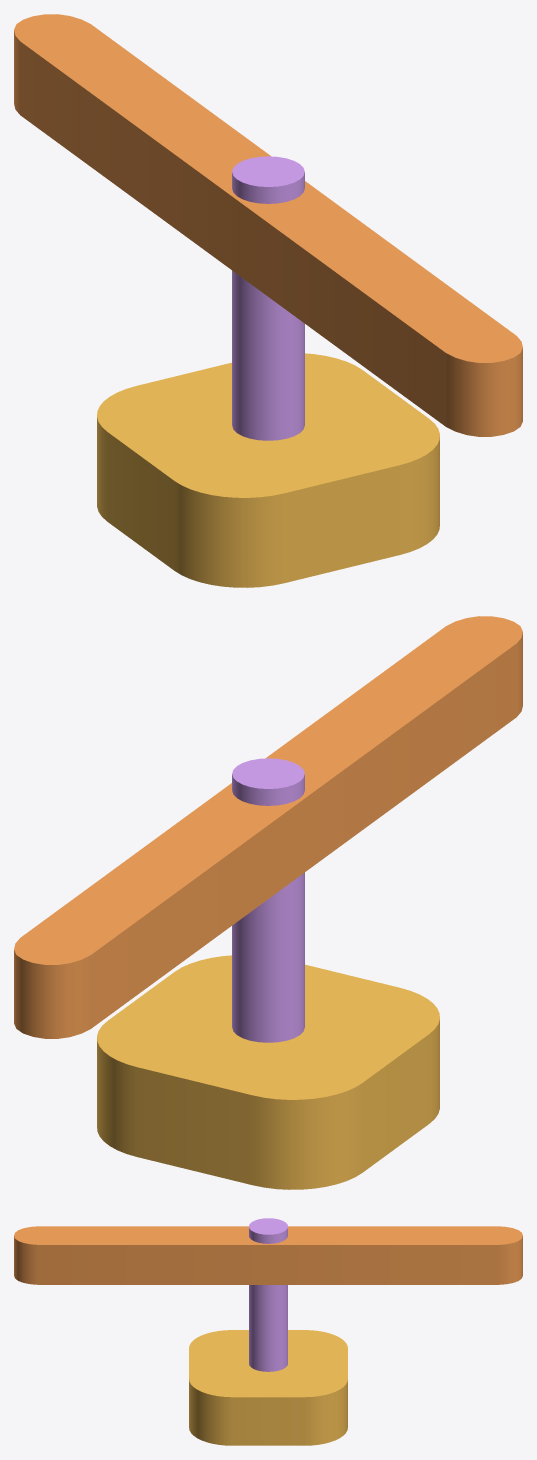
File: Spinner Small.fbx
3 views of the same model, one above another, from view 1: azimuth 30°, elevation 25°; view 2: azimuth 150°, elevation 25°; view 3: azimuth 270°, elevation 25° (orthographic). The views are drawn at different scales.
Parts seen in each view (by area): view 1: Spinner Small, Spinner Small.001; view 2: Spinner Small, Spinner Small.001; view 3: Spinner Small.001, Spinner Small.
Part boxes in pixels (bbox=[...]): Spinner Small: bbox=[97, 156, 439, 587]; Spinner Small.001: bbox=[14, 14, 522, 436]; Spinner Small: bbox=[97, 758, 439, 1189]; Spinner Small.001: bbox=[14, 616, 522, 1038]; Spinner Small.001: bbox=[14, 1226, 522, 1284]; Spinner Small: bbox=[189, 1218, 347, 1445].
Bounding box in the file's own units: 86.11 × 111 × 276.
